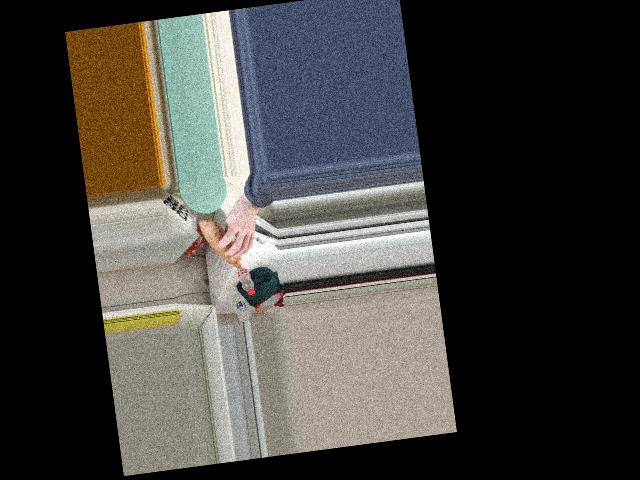sweet_potato: (200, 222, 248, 271)
